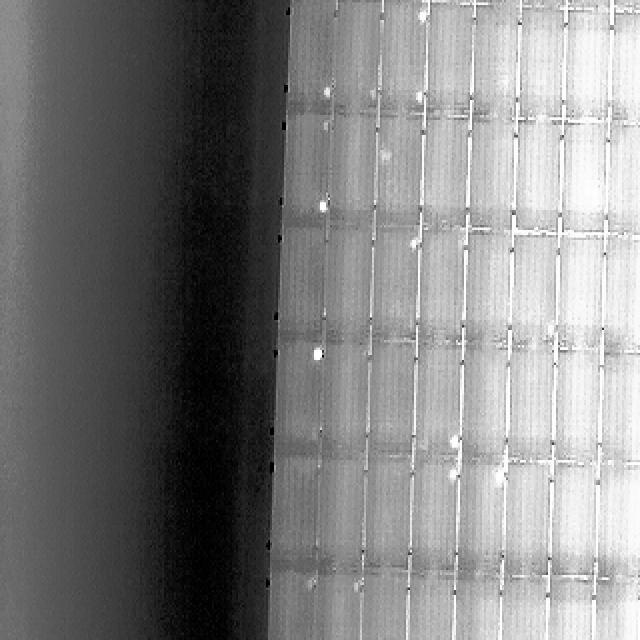Hotspots: (579, 174, 603, 216), (409, 78, 430, 108), (311, 192, 330, 218), (377, 144, 398, 167), (412, 4, 432, 24), (363, 84, 381, 106), (404, 235, 421, 256), (490, 467, 506, 486), (305, 345, 321, 363), (320, 84, 334, 104), (444, 434, 458, 452), (442, 466, 456, 483), (300, 574, 314, 588)
PV-modules: (326, 117, 378, 232), (318, 345, 370, 460), (331, 0, 382, 117), (322, 228, 373, 344), (456, 462, 506, 579), (514, 121, 564, 238), (412, 348, 462, 465), (414, 229, 464, 346), (508, 348, 558, 465), (504, 464, 554, 580), (552, 350, 602, 466), (368, 345, 418, 461), (423, 3, 473, 119), (460, 348, 510, 464), (268, 456, 318, 572), (288, 0, 338, 115), (463, 230, 512, 347), (554, 236, 604, 350), (272, 342, 320, 460), (557, 122, 607, 235), (518, 8, 568, 121), (316, 458, 366, 571), (362, 457, 412, 570), (379, 2, 428, 117), (280, 116, 329, 231), (408, 464, 458, 576), (467, 120, 516, 234), (511, 234, 560, 348), (471, 5, 519, 120), (419, 121, 468, 233), (548, 466, 596, 580), (372, 228, 420, 342), (276, 226, 324, 340), (377, 118, 425, 231), (562, 11, 610, 123), (594, 465, 640, 580), (598, 353, 640, 465), (602, 235, 640, 350), (604, 128, 640, 240), (608, 13, 640, 125), (318, 570, 367, 640), (266, 576, 319, 640), (359, 574, 409, 640), (406, 574, 454, 640), (454, 577, 502, 640), (502, 578, 550, 640), (592, 580, 640, 640), (546, 579, 593, 640), (564, 0, 610, 12), (522, 0, 570, 10), (612, 0, 640, 15), (430, 0, 480, 2), (474, 0, 522, 2)
